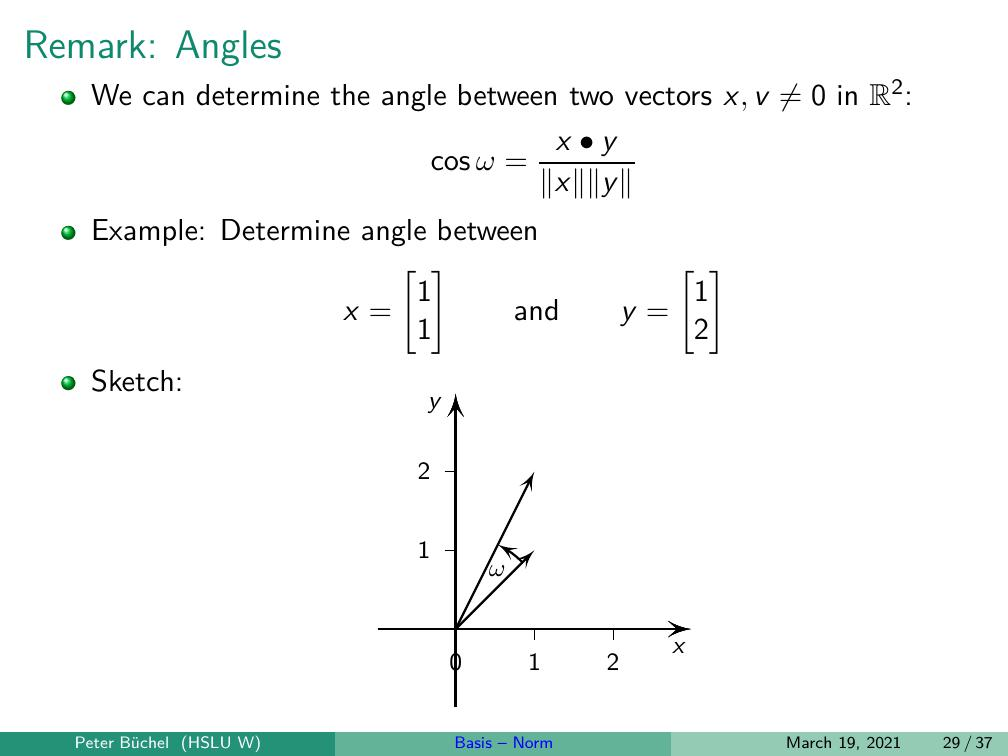Title: (17, 25, 290, 68)
